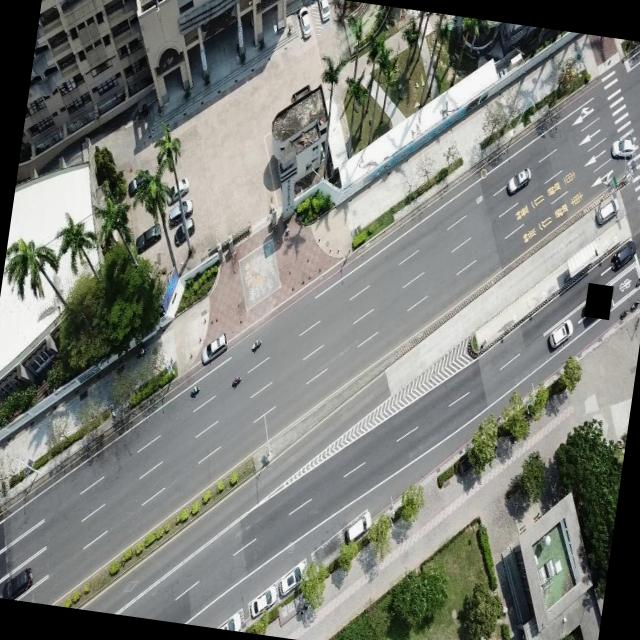bike: (251, 338, 262, 354), (190, 384, 200, 399), (232, 374, 242, 388)
car: (276, 554, 308, 601), (22, 344, 58, 384), (342, 506, 373, 549), (246, 581, 278, 622), (1, 564, 34, 602), (200, 330, 230, 368), (134, 220, 162, 257), (610, 237, 638, 274), (548, 315, 574, 351), (216, 604, 248, 632), (164, 174, 190, 208), (506, 164, 532, 198), (167, 196, 194, 228), (594, 195, 620, 228), (172, 216, 196, 248), (295, 5, 315, 39), (610, 136, 636, 161), (128, 174, 148, 200), (314, 0, 332, 23)
